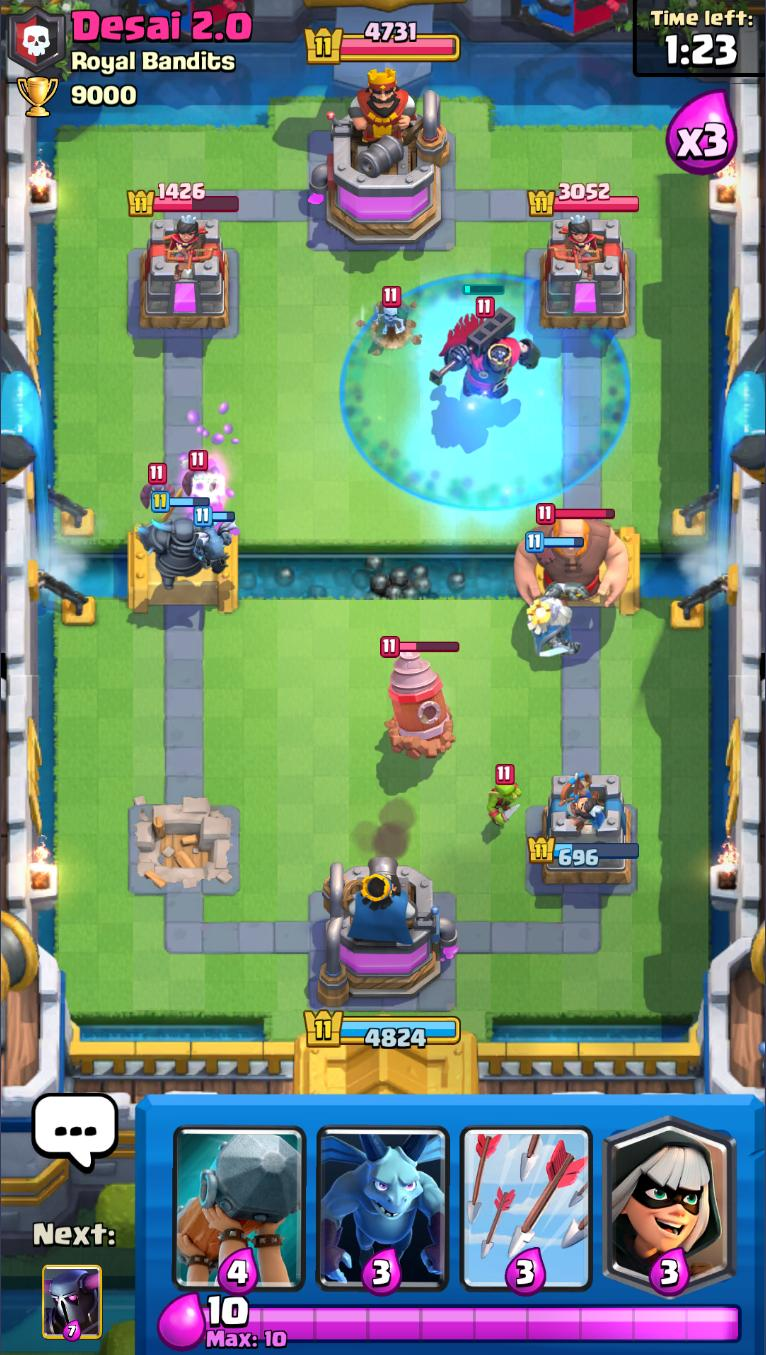ArrowDeck: (454, 1096, 600, 1296)
BanditDeck: (597, 1094, 741, 1299)
Bat: (180, 450, 219, 497), (140, 464, 176, 510)
BattleRamDeck: (166, 1096, 311, 1294)
Elixir: (203, 1294, 744, 1351)
EnemyTower: (136, 214, 234, 334), (539, 214, 633, 333)
Giant: (519, 503, 634, 614)
Goblin: (484, 763, 521, 829)
GoblinDrill: (380, 636, 459, 760)
KingTower: (309, 79, 454, 250)
KingTowerHP: (307, 20, 461, 64)
MinionsDeck: (313, 1099, 451, 1297)
MyKingHP: (303, 1007, 463, 1050)
MyKingTower: (314, 859, 460, 1011)
MyMinion: (191, 507, 237, 571)
MyPekka: (136, 493, 224, 593)
MyPrincessTower: (527, 771, 641, 889)
MyPrincessTowerBrocken: (124, 793, 240, 893)
MyPrincessTowerHP: (526, 834, 641, 866)
MyRoyaleGhost: (523, 533, 587, 663)
PekkaNext: (41, 1264, 103, 1343)
PrincessTower: (147, 217, 206, 266), (550, 217, 604, 266)
Skeleton: (370, 287, 409, 340)
SkeletonKing: (426, 283, 541, 404)
SkeletonKingAbility: (343, 274, 630, 507)
TowerPrincessHP: (127, 181, 240, 217), (530, 183, 641, 217)
